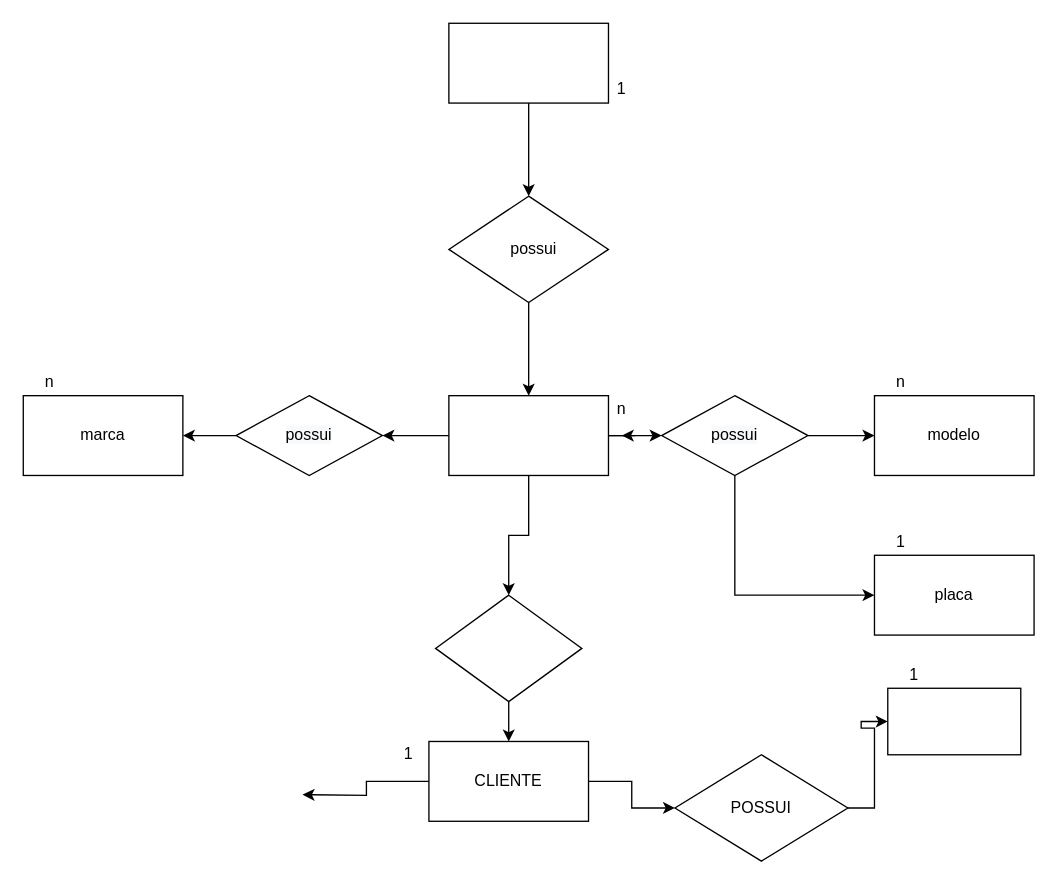
The diagram is 1057 pixels wide and 884 high, and some of its shapes have lost their labels. The shapes that lost their labels are listed below. From the top down, each one's centre as x and y in pixels, then its label:
At (528,62): "empresa".
At (528,434): "veiculo".
At (508,648): "ALUGA".
At (953,721): "CPF".
